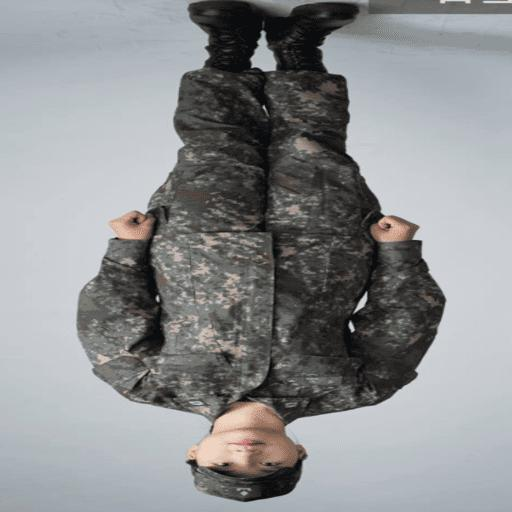korea army: (75, 0, 446, 501)
